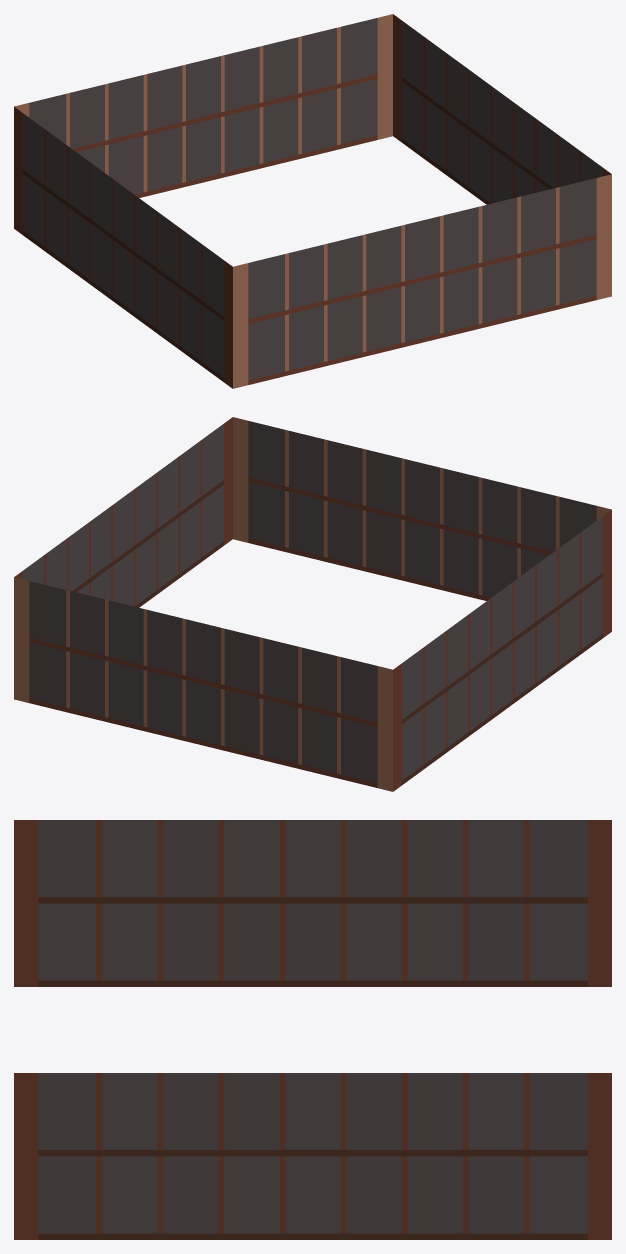
File: TB_CITY_Skysc_N_UpperBodyB_Brown.FBX
3 views of the same model, one above another, from view 1: azimuth 30°, elevation 25°; view 2: azimuth 150°, elevation 25°; view 3: azimuth 270°, elevation 25° (orthographic). The views are drawn at different scales.
Parts seen in each view (by area): view 1: TB_CITY_Skysc_N_UpperBodyB_Brown; view 2: TB_CITY_Skysc_N_UpperBodyB_Brown; view 3: TB_CITY_Skysc_N_UpperBodyB_Brown.
Part boxes in pixels (x1=…): TB_CITY_Skysc_N_UpperBodyB_Brown: x1=14, y1=14, x2=611, y2=388; TB_CITY_Skysc_N_UpperBodyB_Brown: x1=14, y1=417, x2=611, y2=791; TB_CITY_Skysc_N_UpperBodyB_Brown: x1=14, y1=820, x2=611, y2=1239.
Bounding box in the file's own units: 14.94 × 4.6 × 14.94.
